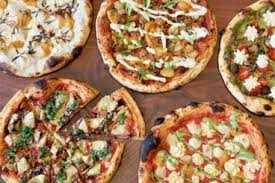pizza: (5, 82, 142, 183), (98, 3, 216, 86), (148, 103, 270, 183)
